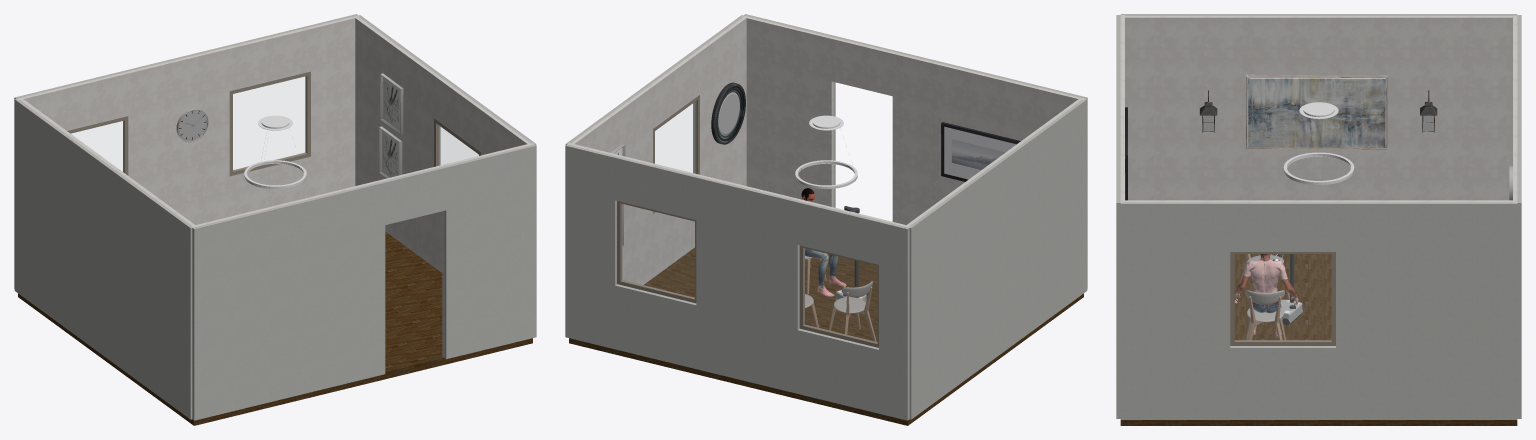
File: resume-after.glb
3 renders of one model, left to right at view 1: azimuth 30°, elevation 25°; view 2: azimuth 150°, elevation 25°; view 3: azimuth 270°, elevation 25°, orthographic. The views are drawn at different scales.
Parts seen in each view (by area): view 1: room__room_geometry_dining_room__v6__0_0, room__room_geometry_dining_room__v11__0_0, room__room_geometry_dining_room__v1__0_0, room__room_geometry_dining_room__v7__0_0, room__room_geometry_dining_room__v0__0_0, room__room_geometry_dining_room__v3__0_0, room__room_geometry_dining_room__v3__0_1, room__room_geometry_dining_room__v2__0_0, room__room_geometry_dining_room__v5__0_0, room__dining_room_botanical_print_0__0_0, room__room_geometry_dining_room__v4__0_0, room__dining_room_botanical_print_1__0_0 (+6 smaller); view 2: room__room_geometry_dining_room__v4__0_0, room__room_geometry_dining_room__v11__0_0, room__room_geometry_dining_room__v5__0_0, room__room_geometry_dining_room__v7__0_0, room__room_geometry_dining_room__v0__0_0, room__room_geometry_dining_room__v2__0_0, room__room_geometry_dining_room__v3__0_0, room__dining_room_photograph_print_0__0_0, room__room_geometry_dining_room__v8__0_0, room__dining_room_mirror_0__0_0, room__room_geometry_dining_room__v6__0_0, room__room_geometry_dining_room__v2__0_1 (+7 smaller); view 3: room__room_geometry_dining_room__v9__0_0, room__room_geometry_dining_room__v10__0_0, room__dining_room_painting_0__0_0, room__room_geometry_dining_room__v8__0_0, room__room_geometry_dining_room__v0__0_0, room__room_geometry_dining_room__v4__0_0, room__room_geometry_dining_room__v6__0_0, room__room_geometry_dining_room__v8__0_1, room__dining_room_chandelier_0__0_0, room__dining_room_dining_chair_2__0_0, human__base_link, room__room_geometry_dining_room__v7__0_0 (+5 smaller).
Boxes of the visible parts, <box> form: room__room_geometry_dining_room__v6__0_0: <box>192,144,536,420</box>; room__room_geometry_dining_room__v11__0_0: <box>14,99,192,419</box>; room__room_geometry_dining_room__v1__0_0: <box>17,15,359,224</box>; room__room_geometry_dining_room__v7__0_0: <box>354,16,530,272</box>; room__room_geometry_dining_room__v0__0_0: <box>18,231,532,425</box>; room__room_geometry_dining_room__v3__0_0: <box>233,76,305,170</box>; room__room_geometry_dining_room__v3__0_1: <box>229,71,310,176</box>; room__room_geometry_dining_room__v2__0_0: <box>72,121,123,171</box>; room__room_geometry_dining_room__v5__0_0: <box>192,143,533,357</box>; room__dining_room_botanical_print_0__0_0: <box>380,73,403,134</box>; room__room_geometry_dining_room__v4__0_0: <box>14,14,358,288</box>; room__dining_room_botanical_print_1__0_0: <box>379,126,402,178</box>; room__room_geometry_dining_room__v4__0_0: <box>565,144,909,420</box>; room__room_geometry_dining_room__v11__0_0: <box>909,99,1087,419</box>; room__room_geometry_dining_room__v5__0_0: <box>742,15,1084,224</box>; room__room_geometry_dining_room__v7__0_0: <box>570,17,746,284</box>; room__room_geometry_dining_room__v0__0_0: <box>569,247,1083,425</box>; room__room_geometry_dining_room__v2__0_0: <box>804,248,877,342</box>; room__room_geometry_dining_room__v3__0_0: <box>622,204,694,298</box>; room__dining_room_photograph_print_0__0_0: <box>941,122,1020,181</box>; room__room_geometry_dining_room__v8__0_0: <box>655,102,695,173</box>; room__dining_room_mirror_0__0_0: <box>711,82,745,144</box>; room__room_geometry_dining_room__v6__0_0: <box>743,14,1087,288</box>; room__room_geometry_dining_room__v2__0_1: <box>799,245,878,347</box>; room__room_geometry_dining_room__v9__0_0: <box>1120,202,1517,419</box>; room__room_geometry_dining_room__v10__0_0: <box>1125,16,1517,200</box>; room__dining_room_painting_0__0_0: <box>1246,74,1387,149</box>; room__room_geometry_dining_room__v8__0_0: <box>1235,254,1331,340</box>; room__room_geometry_dining_room__v0__0_0: <box>1120,254,1517,425</box>; room__room_geometry_dining_room__v4__0_0: <box>1517,15,1521,418</box>; room__room_geometry_dining_room__v6__0_0: <box>1116,15,1120,418</box>; room__room_geometry_dining_room__v8__0_1: <box>1230,252,1335,345</box>; room__dining_room_chandelier_0__0_0: <box>1283,102,1354,184</box>; room__dining_room_dining_chair_2__0_0: <box>1245,290,1285,340</box>; human__base_link: <box>1246,260,1283,313</box>; room__room_geometry_dining_room__v7__0_0: <box>1121,200,1516,202</box>.
Bounding box in the file's own units: 5.1 × 2.8 × 4.6.
35 materials, 12 textured.
